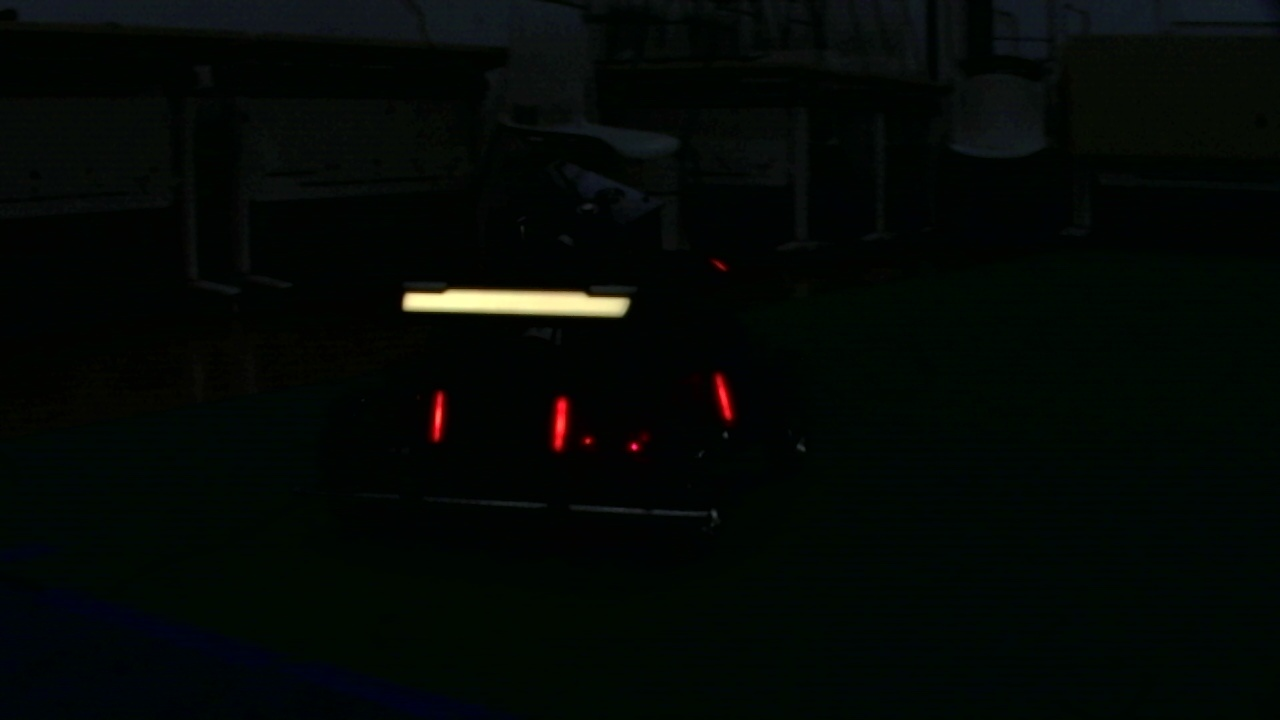lamp: (544, 392, 573, 458), (710, 367, 738, 425), (430, 387, 445, 444)
notpair1: (550, 367, 738, 473)
pair1: (433, 392, 573, 460)
